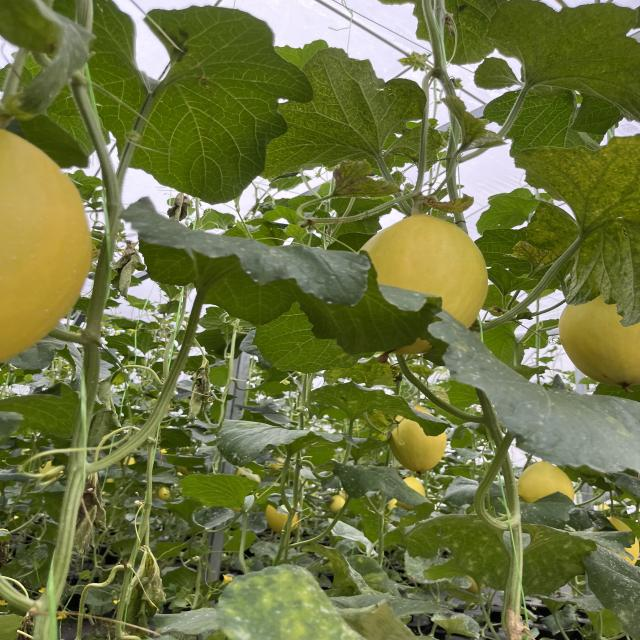CMV: (507, 127, 640, 318), (477, 2, 640, 152), (255, 48, 428, 185)
healthy: (80, 0, 316, 199)
